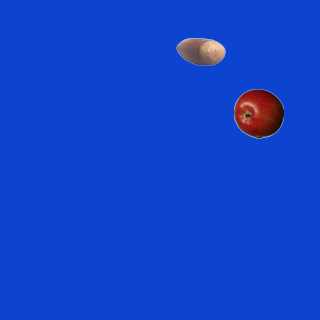Apple Braeburn: (233, 88, 283, 138)
Hazelnut: (175, 26, 225, 76)
